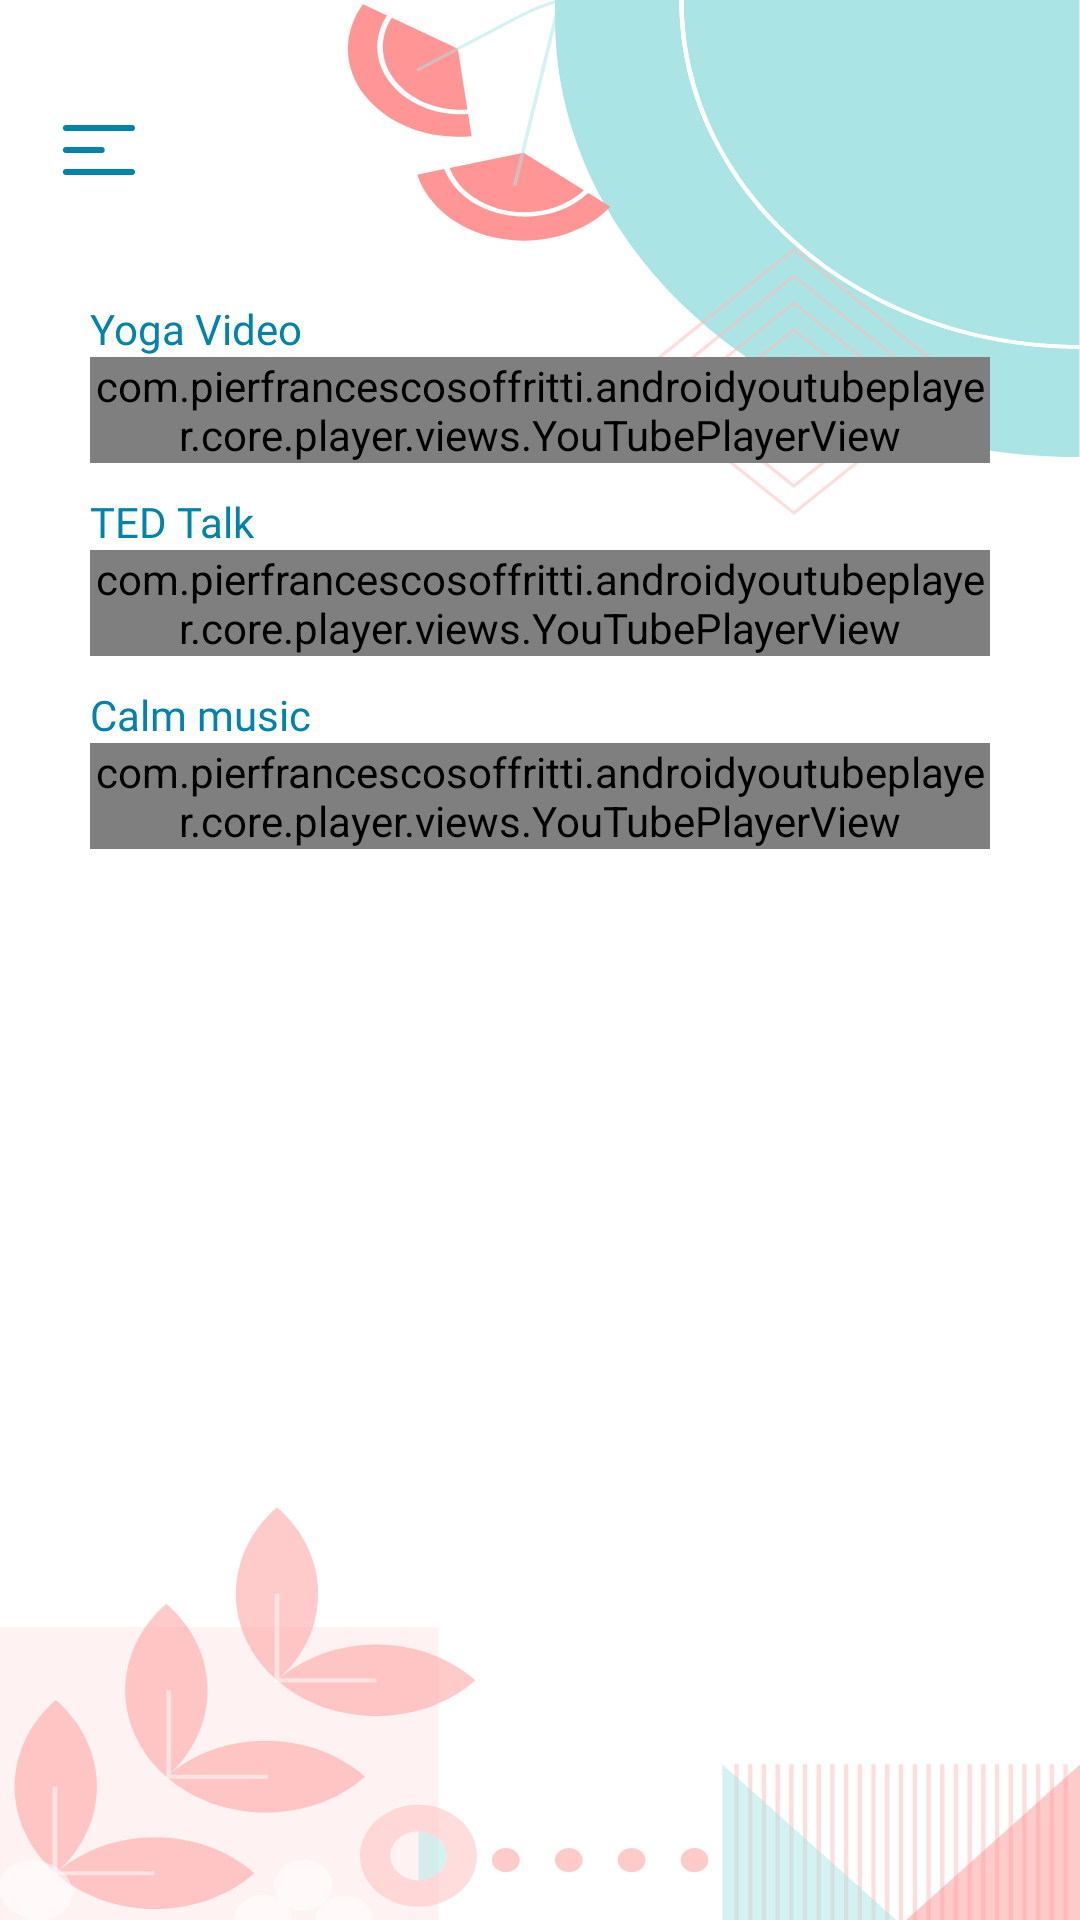

Where icons sit on this 1080*1920 app screen, as rect(x1, y1, x2, y2):
hamburger: rect(63, 125, 135, 175)
